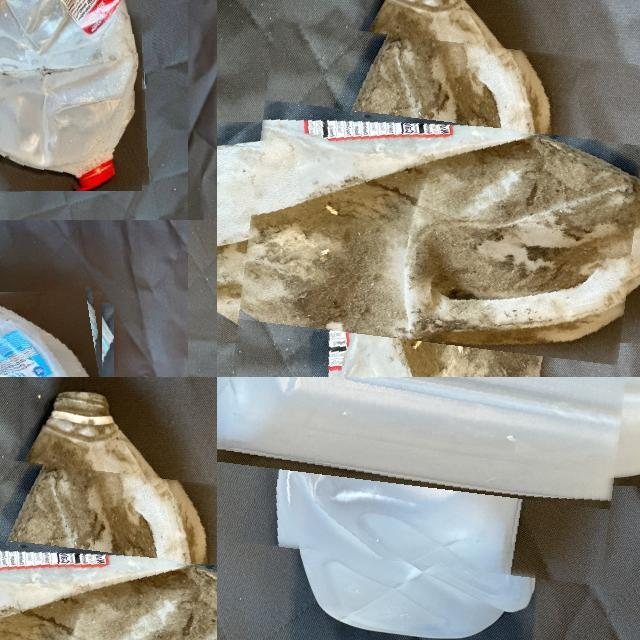milk-jug: (239, 31, 640, 377), (217, 377, 639, 575), (0, 461, 217, 640), (0, 0, 146, 193)
